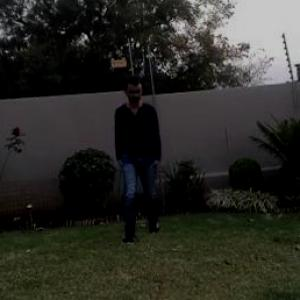follow: (102, 69, 160, 251)
